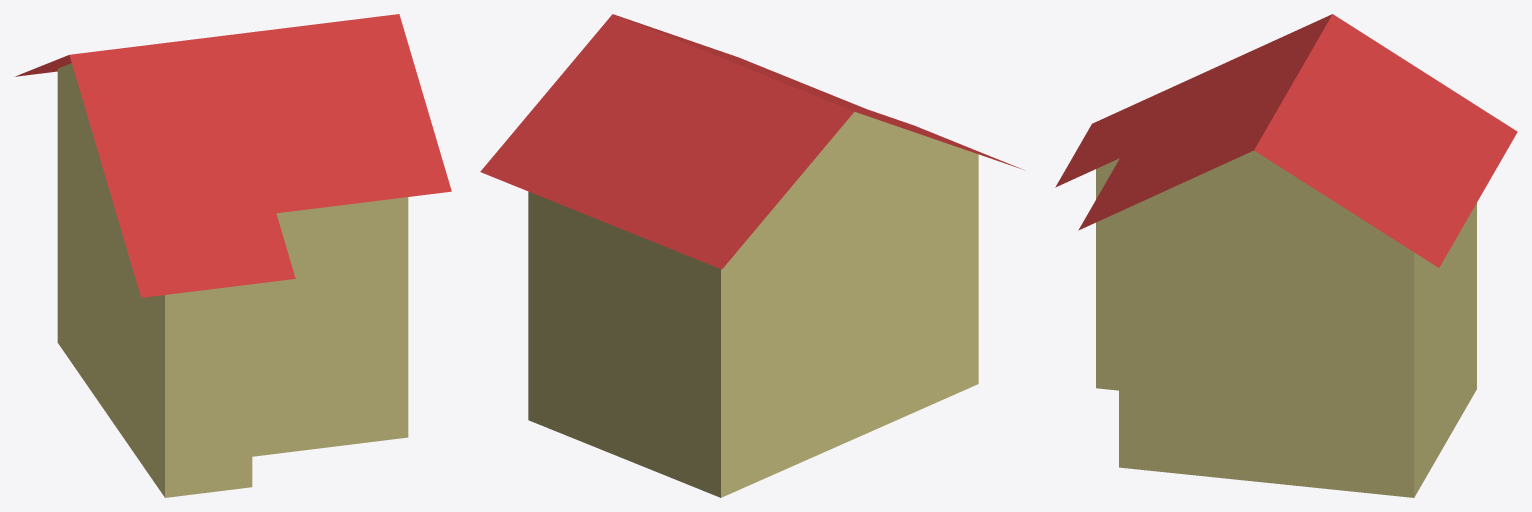
The picture shows the model from 3 angles, left to right: view 1: azimuth 30°, elevation 25°; view 2: azimuth 150°, elevation 25°; view 3: azimuth 270°, elevation 25°; orthographic projection. The views are drawn at different scales.
Visible parts, largest first — view 1: group_5, group_3, group_4; view 2: group_5, group_3, group_4; view 3: group_5, group_3, group_4.
Part boxes in pixels (x1=…): group_5: x1=57, y1=63, x2=408, y2=497; group_3: x1=103, y1=14, x2=451, y2=291; group_4: x1=14, y1=50, x2=295, y2=297; group_5: x1=528, y1=111, x2=978, y2=497; group_3: x1=481, y1=15, x2=974, y2=269; group_4: x1=480, y1=14, x2=1024, y2=191; group_5: x1=1096, y1=150, x2=1476, y2=497; group_3: x1=1055, y1=14, x2=1517, y2=267; group_4: x1=1056, y1=14, x2=1444, y2=267.
Bounding box in the file's own units: 12.6 × 13.66 × 11.26.
